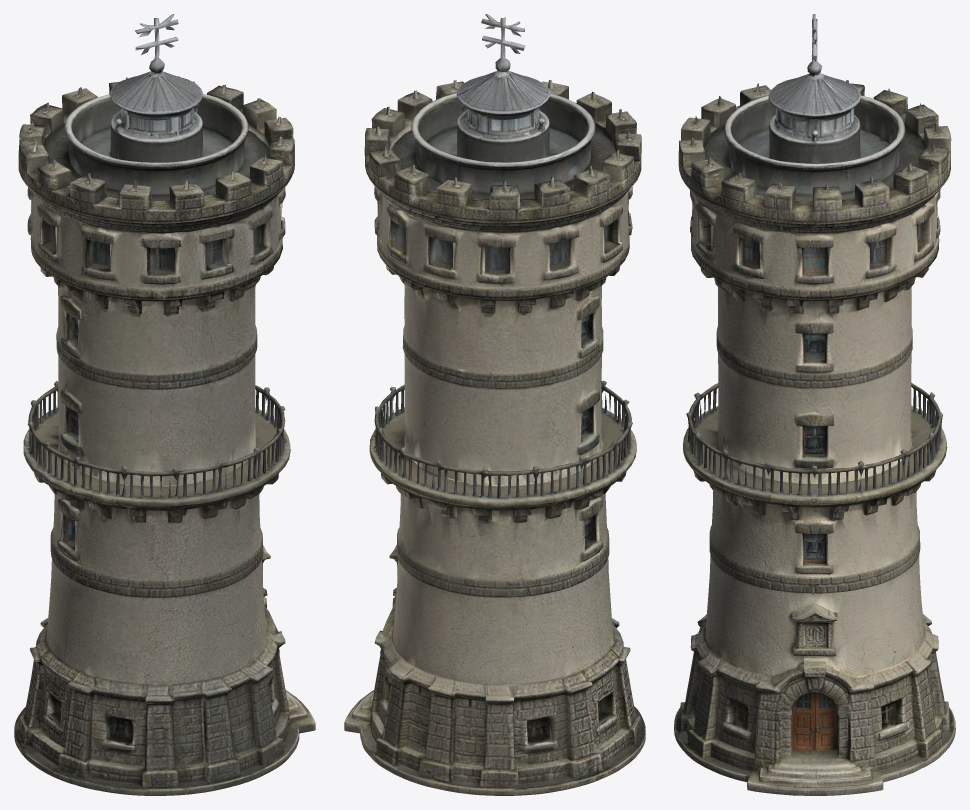
The model's file is hochwaldturm.glb.
3 views of the same model, side by side, from view 1: azimuth 30°, elevation 25°; view 2: azimuth 150°, elevation 25°; view 3: azimuth 270°, elevation 25° (orthographic).
Parts seen in each view (by area): view 1: tripo_node_735cfed5-60ec-4be4-baac-3b5315ec88a9; view 2: tripo_node_735cfed5-60ec-4be4-baac-3b5315ec88a9; view 3: tripo_node_735cfed5-60ec-4be4-baac-3b5315ec88a9.
Part boxes in pixels (<box>): tripo_node_735cfed5-60ec-4be4-baac-3b5315ec88a9: <box>14,14,315,795</box>; tripo_node_735cfed5-60ec-4be4-baac-3b5315ec88a9: <box>344,14,645,795</box>; tripo_node_735cfed5-60ec-4be4-baac-3b5315ec88a9: <box>674,14,955,795</box>.
Bounding box in the file's own units: 0.3787 × 1 × 0.3599.
Materials: 1 (1 with a texture image).
